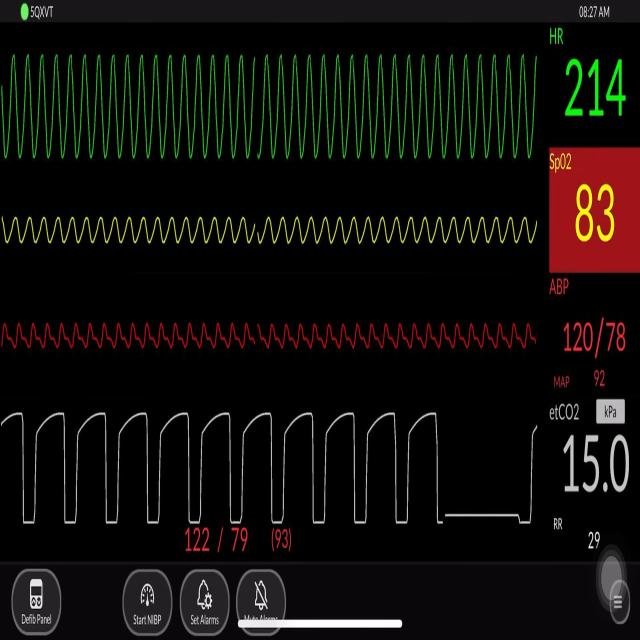danger: (7, 36, 543, 177)
